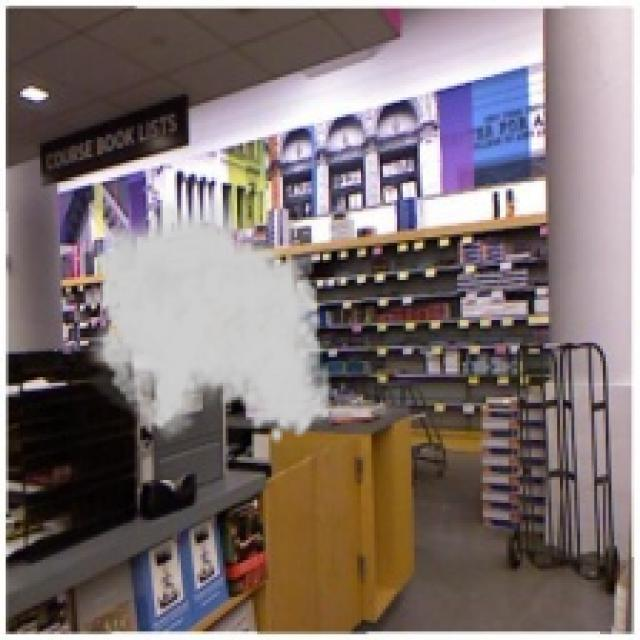Smoke: (80, 188, 334, 446)
